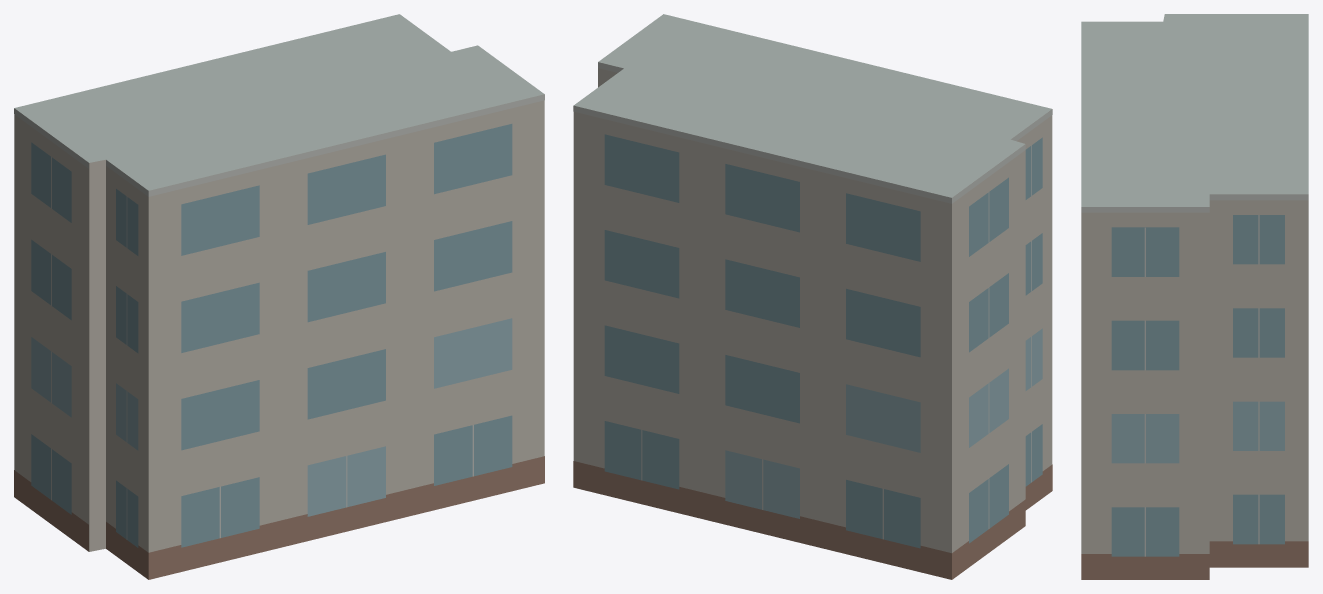
Rendered from survey-upis-32974342.glb.
The picture shows the model from 3 angles, left to right: view 1: azimuth 30°, elevation 25°; view 2: azimuth 150°, elevation 25°; view 3: azimuth 270°, elevation 25°; orthographic projection. The views are drawn at different scales.
Parts seen in each view (by area): view 1: survey-upis-32974342.tmp; view 2: survey-upis-32974342.tmp; view 3: survey-upis-32974342.tmp.
Part boxes in pixels (bbox=[...]): survey-upis-32974342.tmp: bbox=[14, 14, 544, 579]; survey-upis-32974342.tmp: bbox=[573, 14, 1052, 579]; survey-upis-32974342.tmp: bbox=[1081, 14, 1308, 579].
Bounding box in the file's own units: 17.31 × 15.6 × 8.63.
